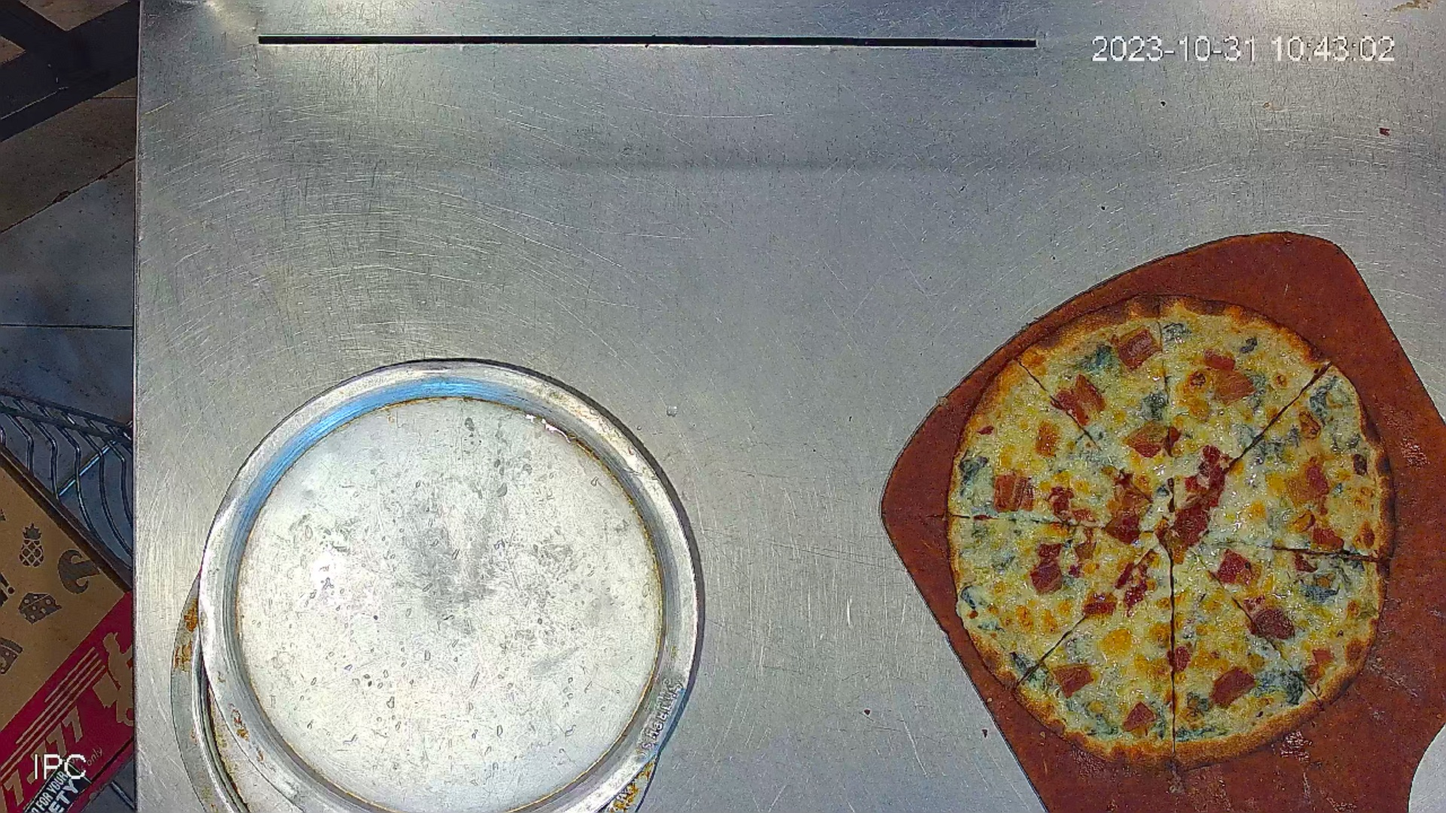pepporoni: (941, 295, 1402, 763)
